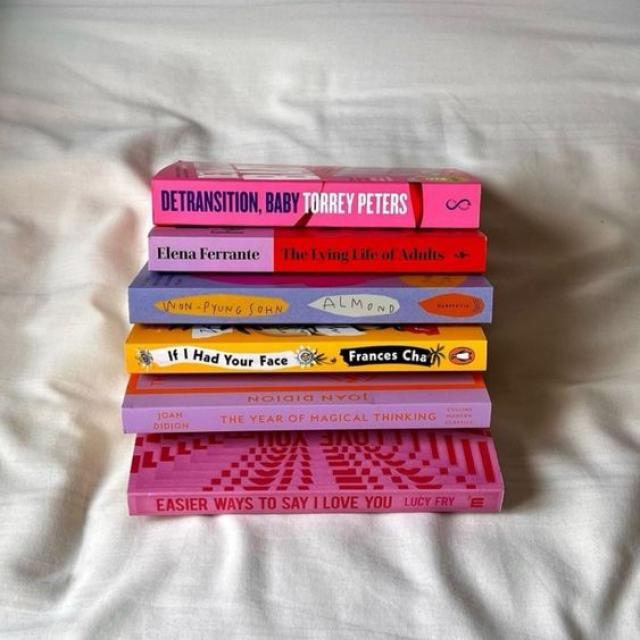book: (154, 182, 480, 227), (125, 342, 487, 373), (131, 291, 493, 321), (147, 239, 486, 269), (121, 408, 495, 432), (131, 491, 503, 512)
